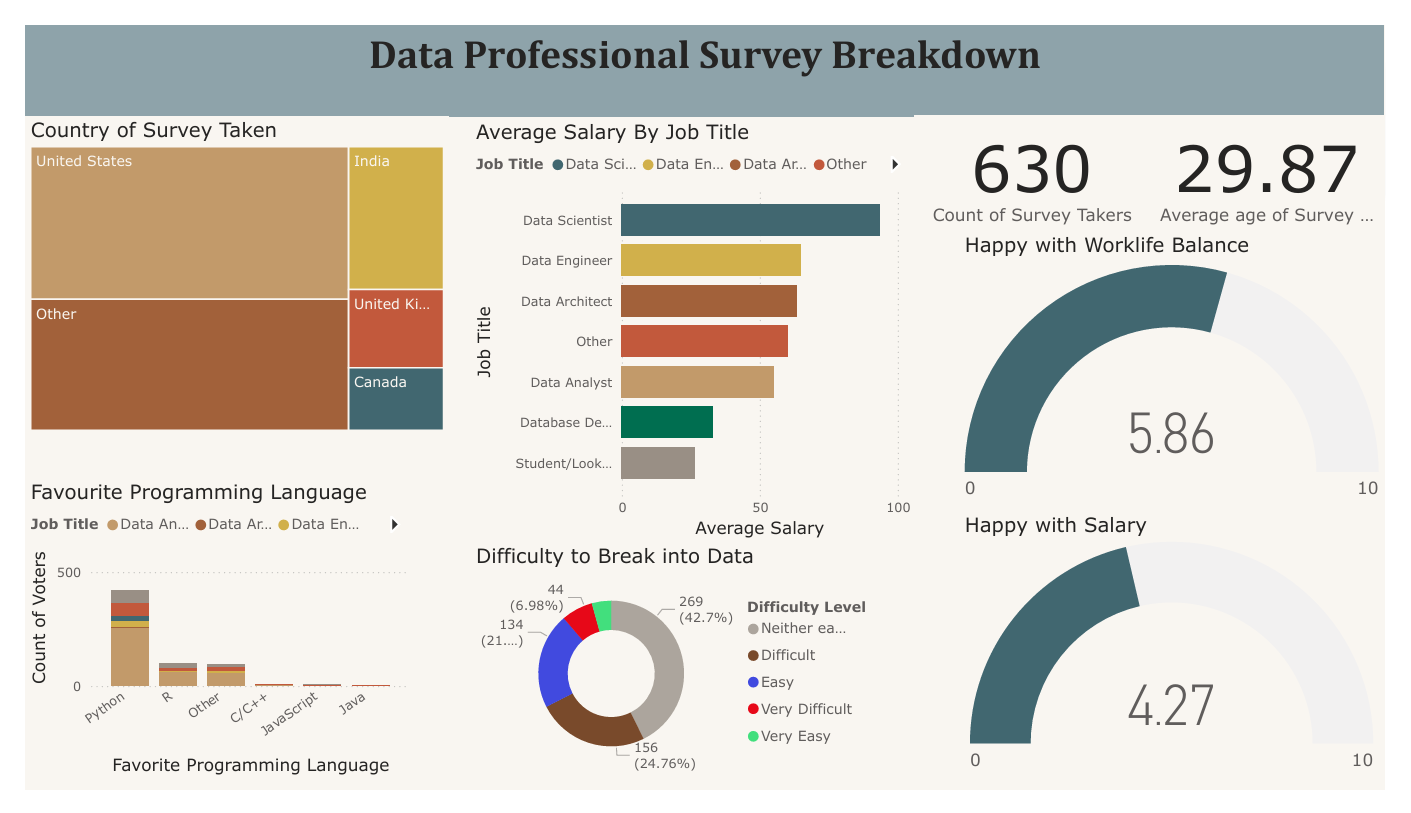

The page's visual inventory and layout, read from the dashboard file:
{"tool":"powerbi","page":{"name":"Page 1","canvas":[1280,720],"ordinal":0},"visuals":[{"type":"textbox","box":[0,0,1279.4,85.7],"z":0},{"type":"card","fields":{"Values":["CountNonNull(Data Professional Survey.Unique ID)"]},"box":[837.2,85,221.1,109.6],"z":1},{"type":"card","fields":{"Values":["Avg(Data Professional Survey.Q10 - Current Age)"]},"box":[1058.3,85,221.1,109.6],"z":2},{"type":"barChart","title":"Average Salary By Job Title","fields":{"Category":["Data Professional Survey.Q1 - Which Title Best Fits your Current Role?.1"],"Y":["Avg(Data Professional Survey.Average Salary)"],"Series":["Data Professional Survey.Q1 - Which Title Best Fits your Current Role?.1"]},"box":[419.1,88.2,419.1,399.2],"z":3},{"type":"columnChart","title":"Favourite Programming Language","fields":{"Category":["Data Professional Survey.Q5 - Favorite Programming Language.1"],"Y":["CountNonNull(Data Professional Survey.Unique ID)"],"Series":["Data Professional Survey.Q1 - Which Title Best Fits your Current Role?.1"]},"box":[0,427.1,367.3,282.7],"z":4},{"type":"treemap","title":"Country of Survey Taken","fields":{"Values":["CountNonNull(Data Professional Survey.Q11 - Which Country do you live in?.1.1)"],"Details":["Data Professional Survey.Q11 - Which Country do you live in?.1.1"]},"box":[0,86,399.2,300],"z":5},{"type":"gauge","title":"Happy with Worklife Balance","fields":{"Y":["Avg(Data Professional Survey.Q6 - How Happy are you in your Current Position with the following? (Coworkers))"],"MinValue":["Min(Data Professional Survey.Q6 - How Happy are you in your Current Position with the following? (Coworkers))1"],"MaxValue":["Max(Data Professional Survey.Q6 - How Happy are you in your Current Position with the following? (Coworkers))2"]},"box":[879,194,400.3,264.1],"z":6},{"type":"gauge","title":"Happy with Salary","fields":{"Y":["Avg(Data Professional Survey.Q6 - How Happy are you in your Current Position with the following? (Salary))"],"MinValue":["Min(Data Professional Survey.Q6 - How Happy are you in your Current Position with the following? (Salary))"],"MaxValue":["Max(Data Professional Survey.Q6 - How Happy are you in your Current Position with the following? (Salary))1"]},"box":[879,458.1,400.3,251.7],"z":7},{"type":"donutChart","title":"Difficulty to Break into Data","fields":{"Category":["Data Professional Survey.Q7 - How difficult was it for you to break into Data?"],"Y":["CountNonNull(Data Professional Survey.Q7 - How difficult was it for you to break into Data?)"]},"box":[419.1,487.4,375,222.8],"z":8}]}

Visuals, with their boxes in screenshot pixels (x1, y1, x2, y2), scaled from the page's 1280x720 canvas onto the 1411x813 screenshot:
textbox: (0,0,1410,97)
card - CountNonNull(Data Professional Survey.Unique ID): (923,96,1167,220)
card - Avg(Data Professional Survey.Q10 - Current Age): (1167,96,1410,220)
"Average Salary By Job Title" barChart: (462,100,924,550)
"Favourite Programming Language" columnChart: (0,482,405,801)
"Country of Survey Taken" treemap: (0,97,440,436)
"Happy with Worklife Balance" gauge: (969,219,1410,517)
"Happy with Salary" gauge: (969,517,1410,801)
"Difficulty to Break into Data" donutChart: (462,550,875,802)
